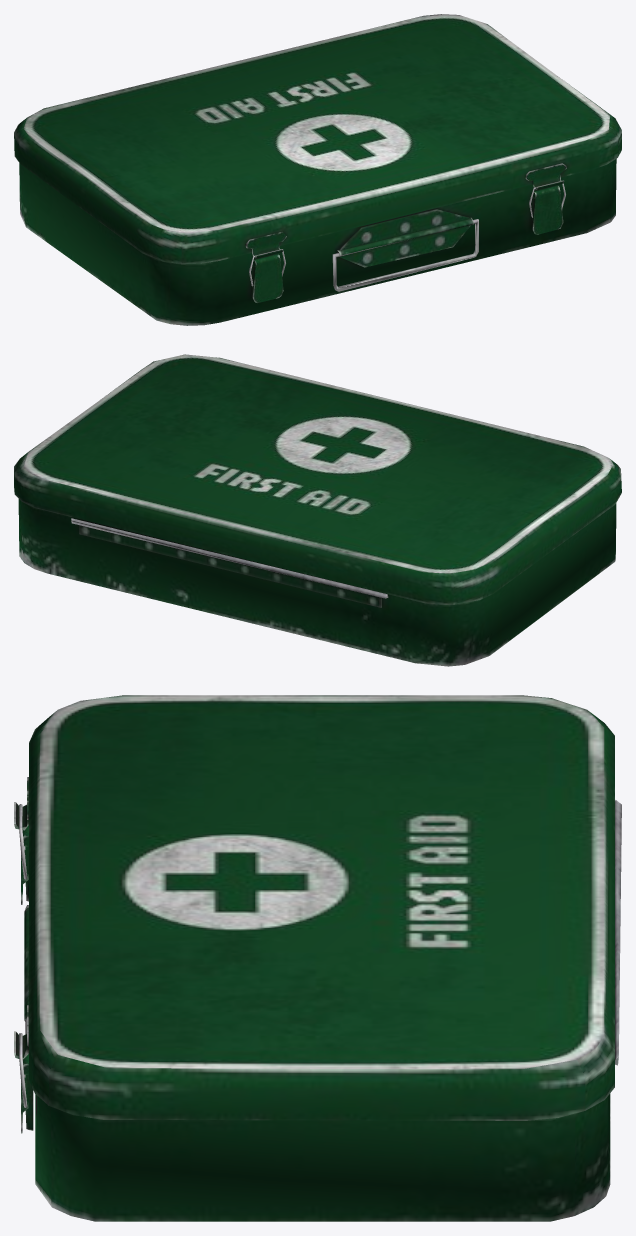
3 views of the same model, one above another, from view 1: azimuth 30°, elevation 25°; view 2: azimuth 150°, elevation 25°; view 3: azimuth 270°, elevation 25° (orthographic). The views are drawn at different scales.
Visible parts, largest first — view 1: medical_box_lid, medical_box, medical_box_latch, medical_box_handle; view 2: medical_box_lid, medical_box; view 3: medical_box_lid, medical_box.
Boxes of the visible parts, box(x1,y1,x2,y2) form: medical_box_lid: box(14, 14, 621, 264); medical_box: box(19, 159, 616, 325); medical_box_latch: box(252, 185, 563, 302); medical_box_handle: box(332, 219, 478, 291); medical_box_lid: box(14, 354, 621, 604); medical_box: box(18, 499, 616, 666); medical_box_lid: box(14, 695, 614, 1120); medical_box: box(24, 800, 621, 1221).
Size of the model in its own units: 0.5255 by 0.0967 by 0.3501.
Materials: 1 (1 with a texture image).
